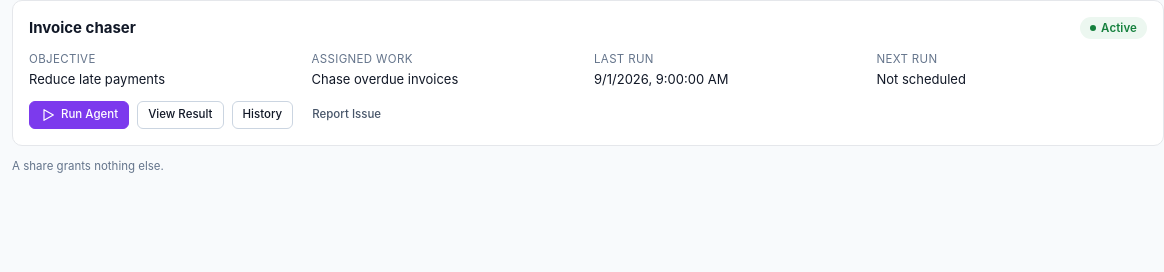
Scenario: MyEngineAgents › shows the latest result from the same list that backs History
Click the button with test id "operator-view-result" at (180, 114), box [137, 100, 224, 128]
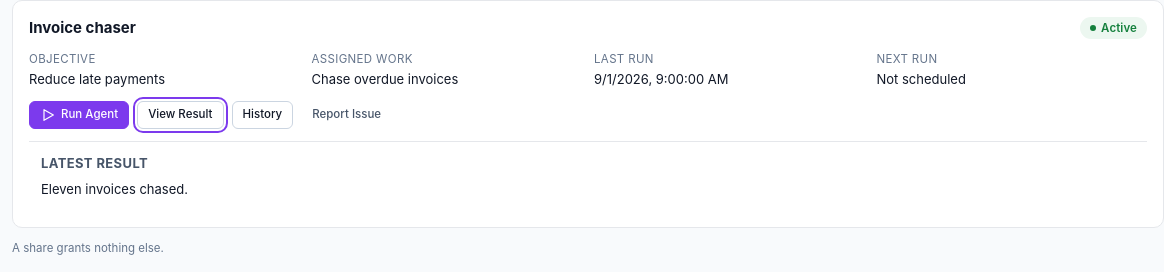
expect the element with test id "operator-result-panel" shows "Eleven invoices chased.": met, box [41, 181, 188, 197]
